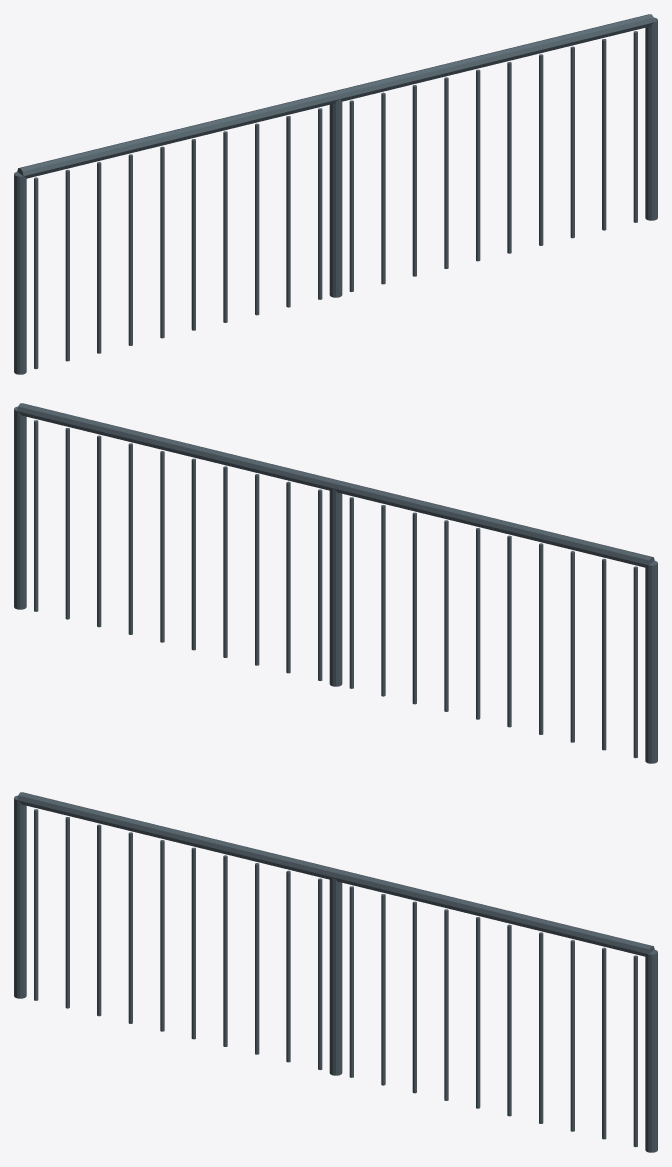
Rendered from stand-rear-railing-1252a9ae.glb.
3 renders of one model, top to bottom at view 1: azimuth 30°, elevation 25°; view 2: azimuth 150°, elevation 25°; view 3: azimuth 330°, elevation 25°, orthographic.
Parts seen in each view (by area): view 1: stand-rear-railing; view 2: stand-rear-railing; view 3: stand-rear-railing.
Part boxes in pixels (box(x1,y1,x2,y2)): stand-rear-railing: box(14, 14, 657, 374); stand-rear-railing: box(14, 403, 657, 763); stand-rear-railing: box(14, 792, 657, 1152).
Bounding box in the file's own units: 4.07 × 1.23 × 0.0701.
